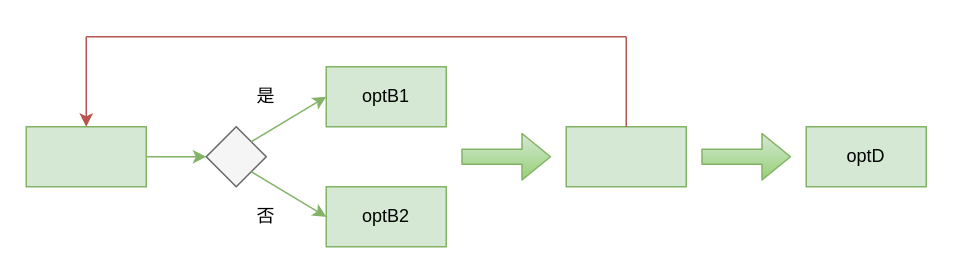
The diagram is 953 pixels wide and 273 high, and some of its shapes have lost their labels. The shapes that lost their labels are listed below. From the top down, each one's box as (x1, y1, x2, y2) in pixels, then its label:
(25, 125, 146, 187): optA
(565, 125, 686, 187): optC
